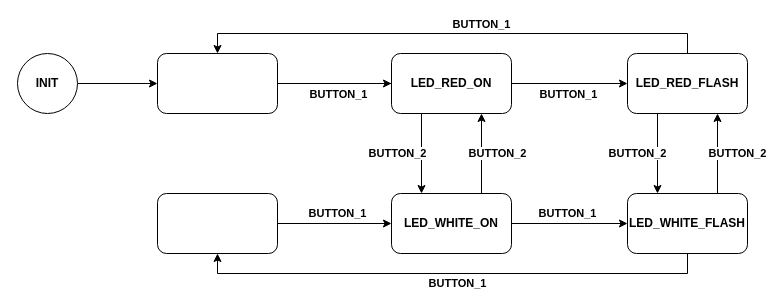
Image size: 784x307. Some labels were removed from this diagram. The shapes that lost their labels are listed below. From the top down, each one's centre as x and y in pixels, then its label:
the point at 217,83: LED_RED_OFF
the point at 217,223: LED_WHITE_OFF
